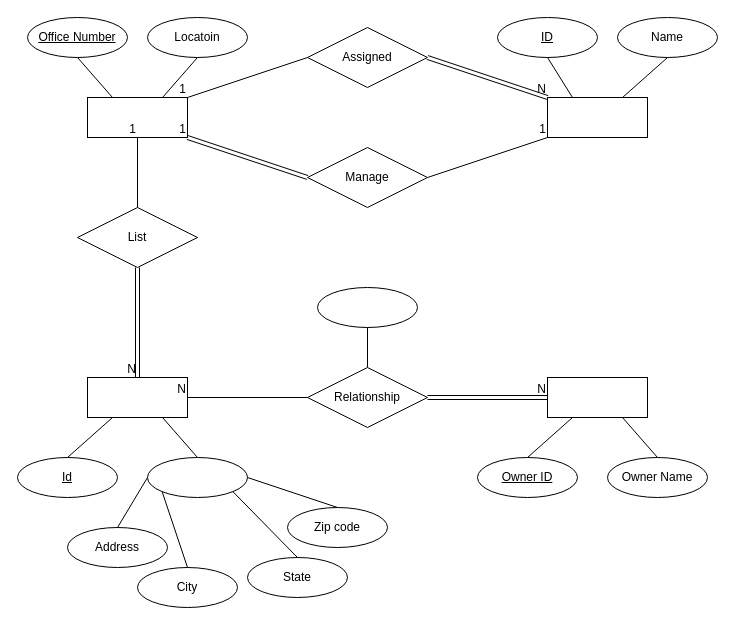
Image size: 735x625. Some labels were removed from this diagram. Here are the shapes that lost their labels. From the top down, the box of each, then its label:
(86, 96, 188, 138): Sales office
(546, 96, 648, 138): Employees
(316, 286, 418, 328): Percent Owned
(86, 376, 188, 418): Property
(546, 376, 648, 418): Owner
(146, 456, 248, 498): Location
